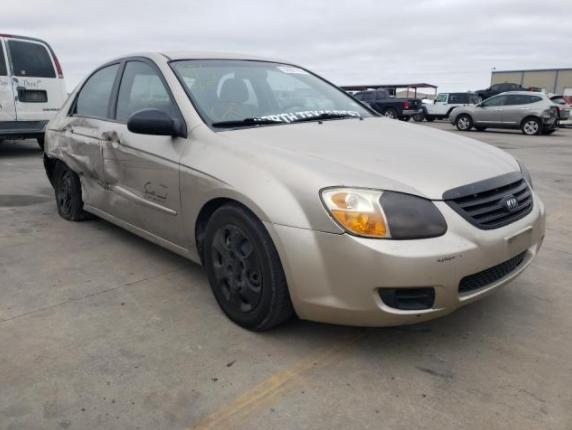Broken part: (54, 162, 83, 220)
Dent: (44, 117, 152, 227)
Missing part: (105, 136, 122, 146), (62, 127, 75, 134)
Paint chip: (436, 256, 457, 262), (417, 314, 421, 317), (460, 255, 462, 257)
Scratch: (144, 182, 168, 199), (159, 183, 168, 188)
